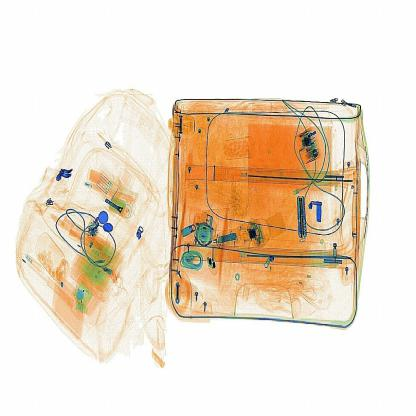scissors: (294, 196, 308, 240)
